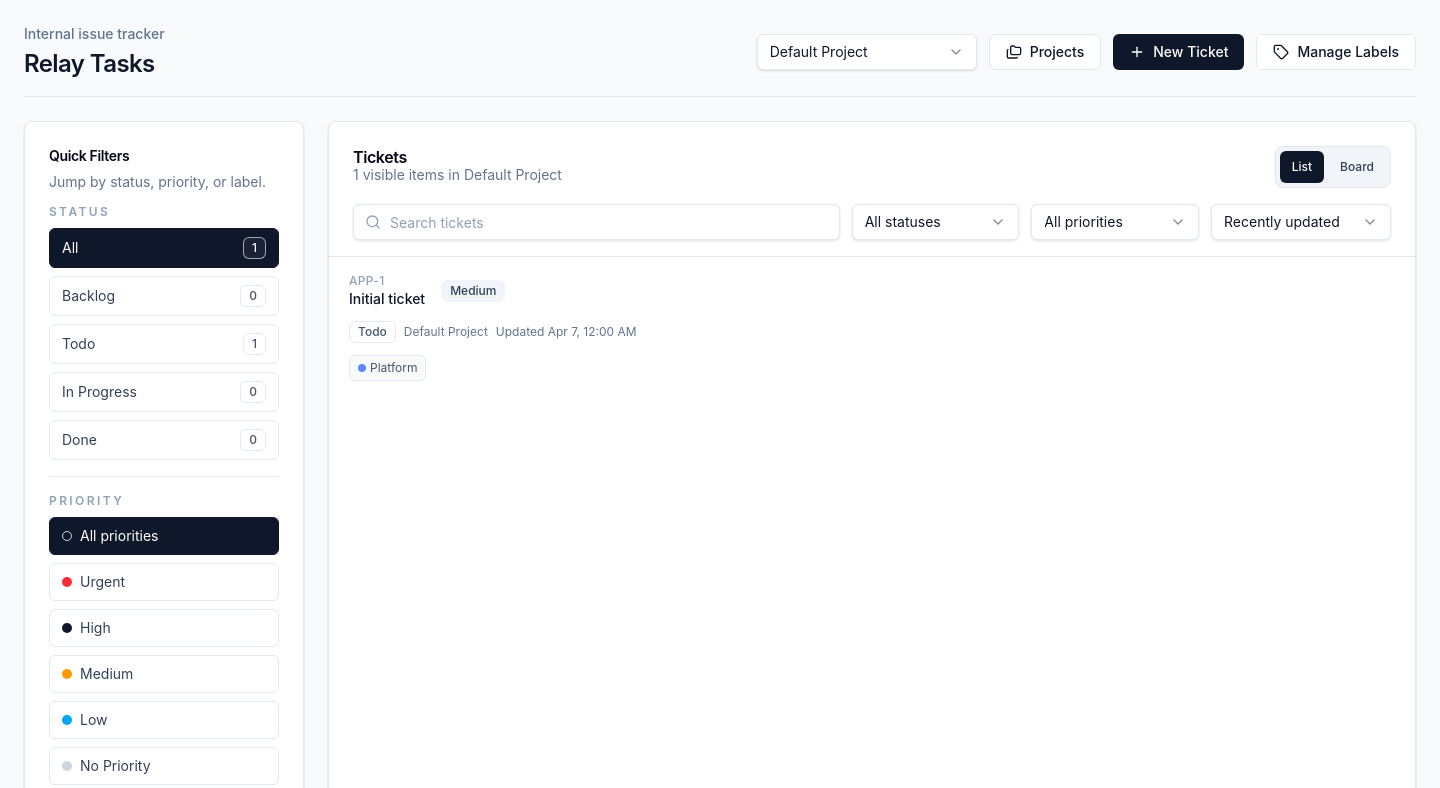
Test: App › dismisses the error banner
The width and height of the screenshot is (1440, 788).
Click the button "Initial ticket" at {"x": 872, "y": 327}, box [329, 257, 1415, 397]
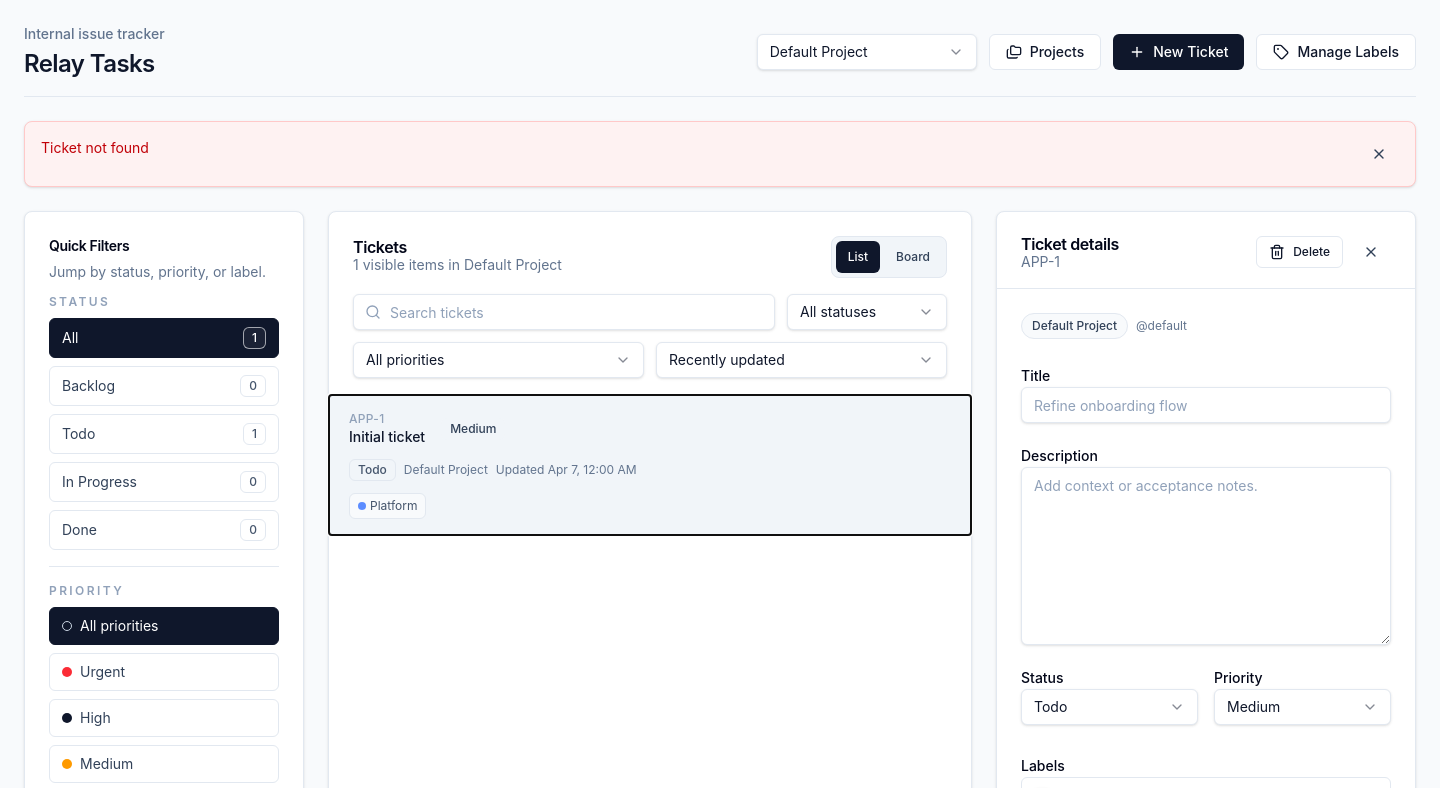
Expected: the text "Ticket not found" is shown, [41, 138, 149, 158]
Click the button named "Dismiss error" at {"x": 1379, "y": 154}, box [1359, 138, 1399, 170]
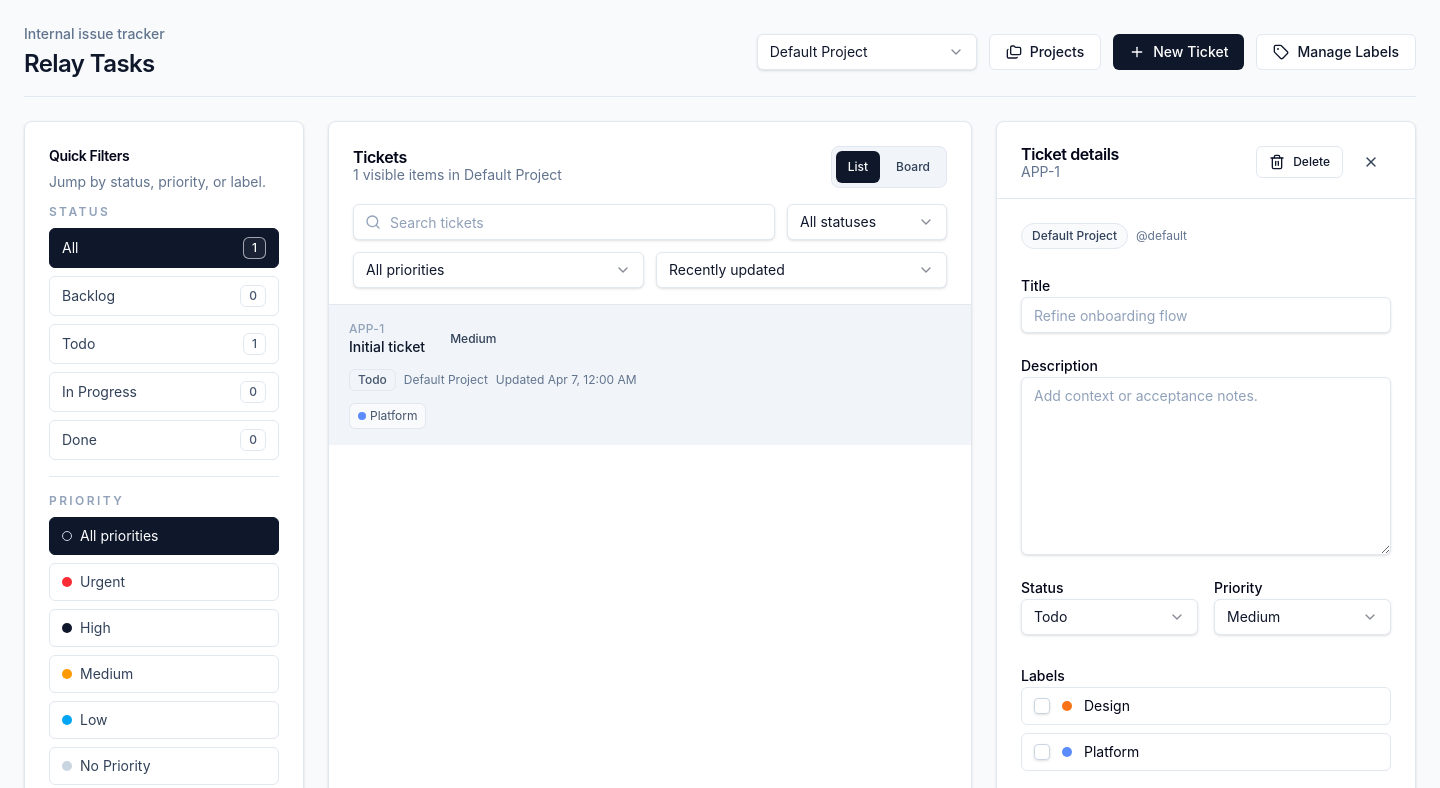
Expected: the text "Ticket not found" is gone
